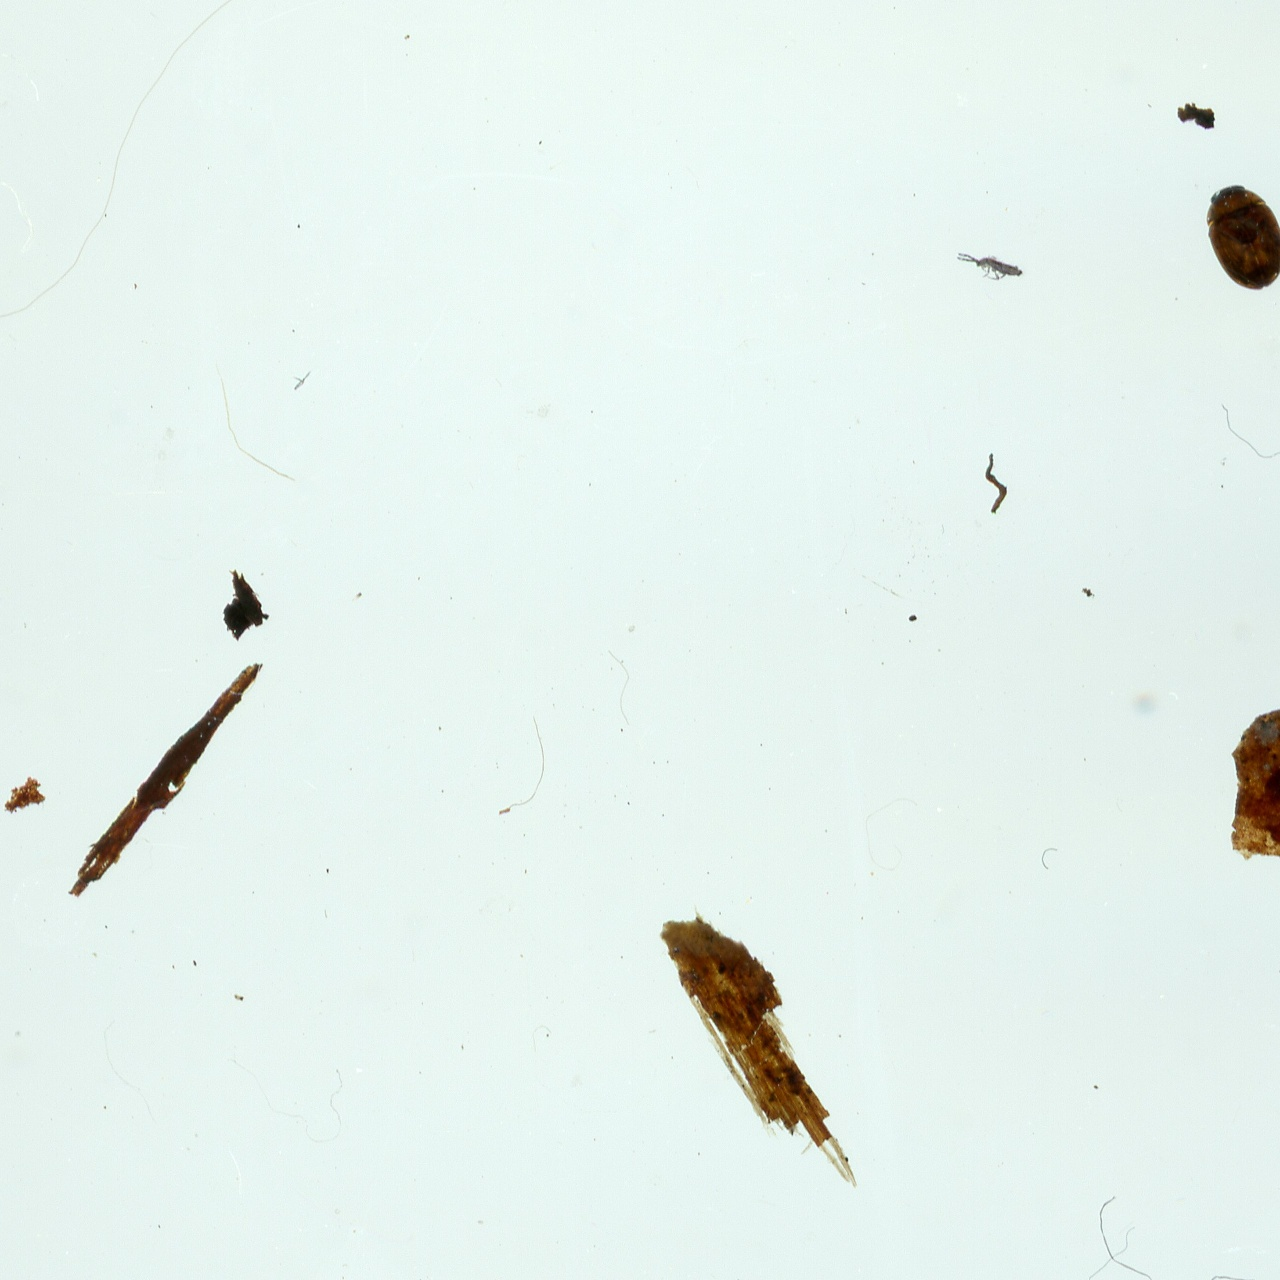arthropod: (1203, 180, 1280, 295)
